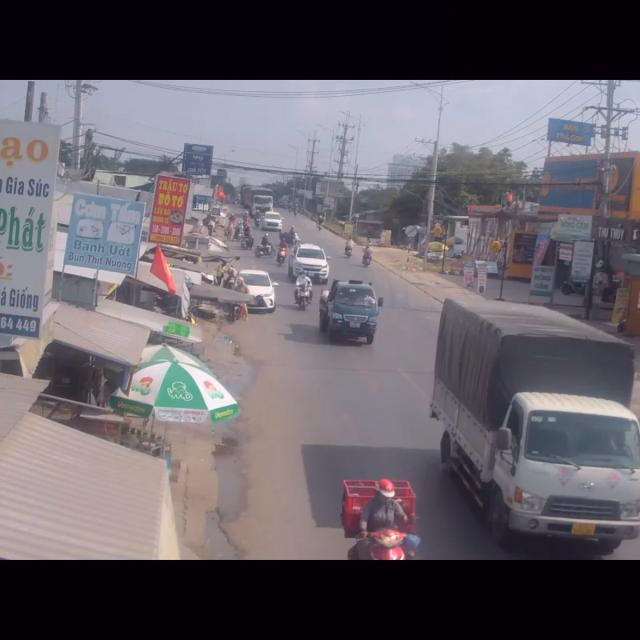car: (291, 242, 330, 284)
motorbike: (293, 268, 312, 312)
truck: (428, 298, 640, 556), (353, 481, 412, 560), (322, 278, 382, 352)
